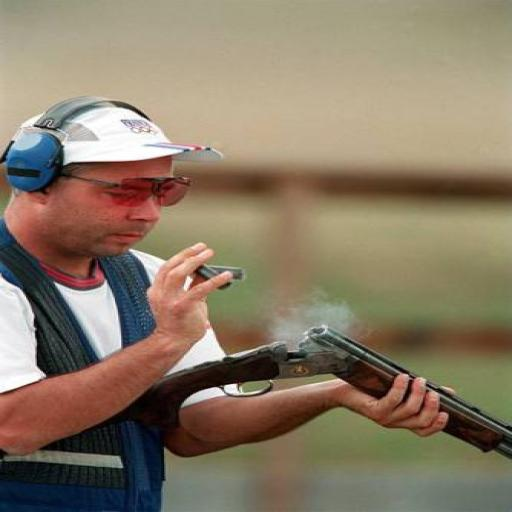shooting: (0, 94, 457, 511)
